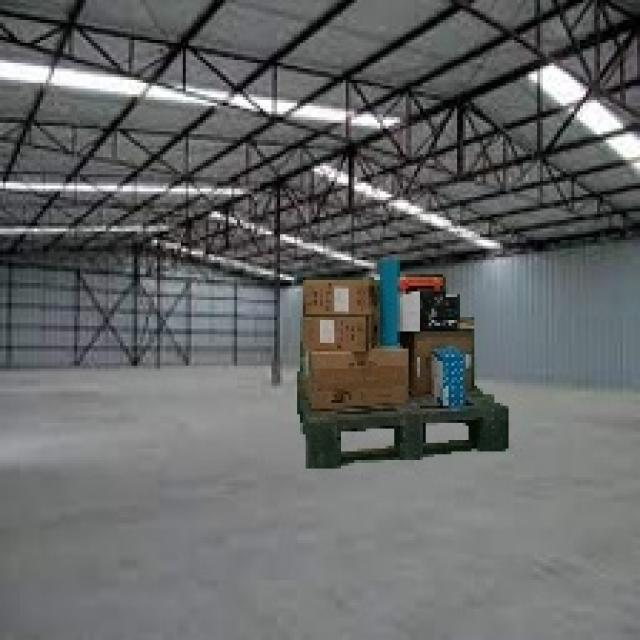block: (299, 416, 346, 471), (473, 410, 513, 453), (393, 417, 430, 462)
front: (292, 409, 532, 468)
